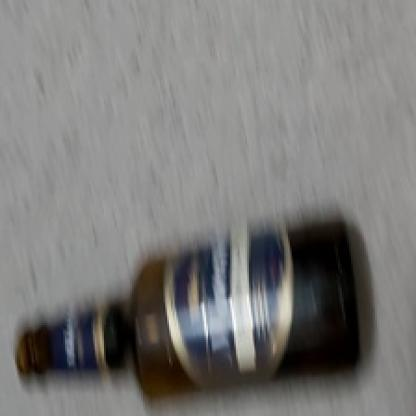Can: (0, 145, 377, 412)
